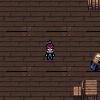Obstacle: (71, 77, 100, 100)
Victim: (42, 38, 57, 61)
Win: (86, 50, 100, 71)
